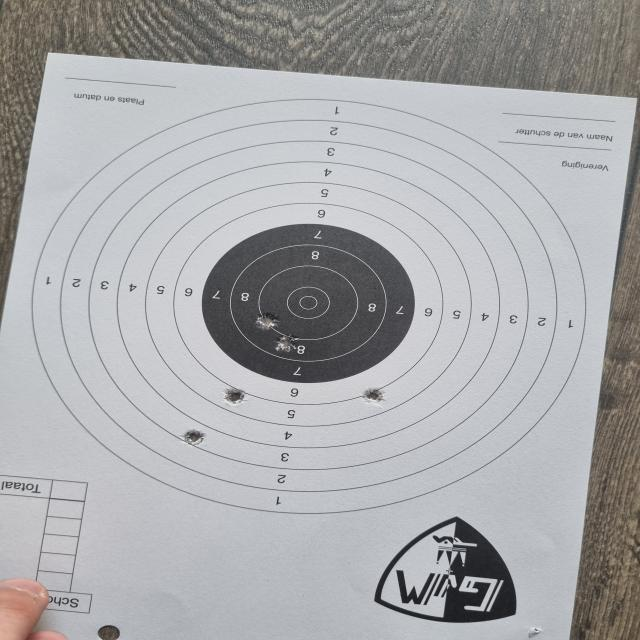10: (275, 336, 299, 352), (255, 314, 280, 329)
4: (179, 429, 207, 448)
7: (222, 388, 248, 405), (360, 388, 386, 404)
Black Contour: (202, 222, 418, 384)
Target: (26, 98, 592, 513)
